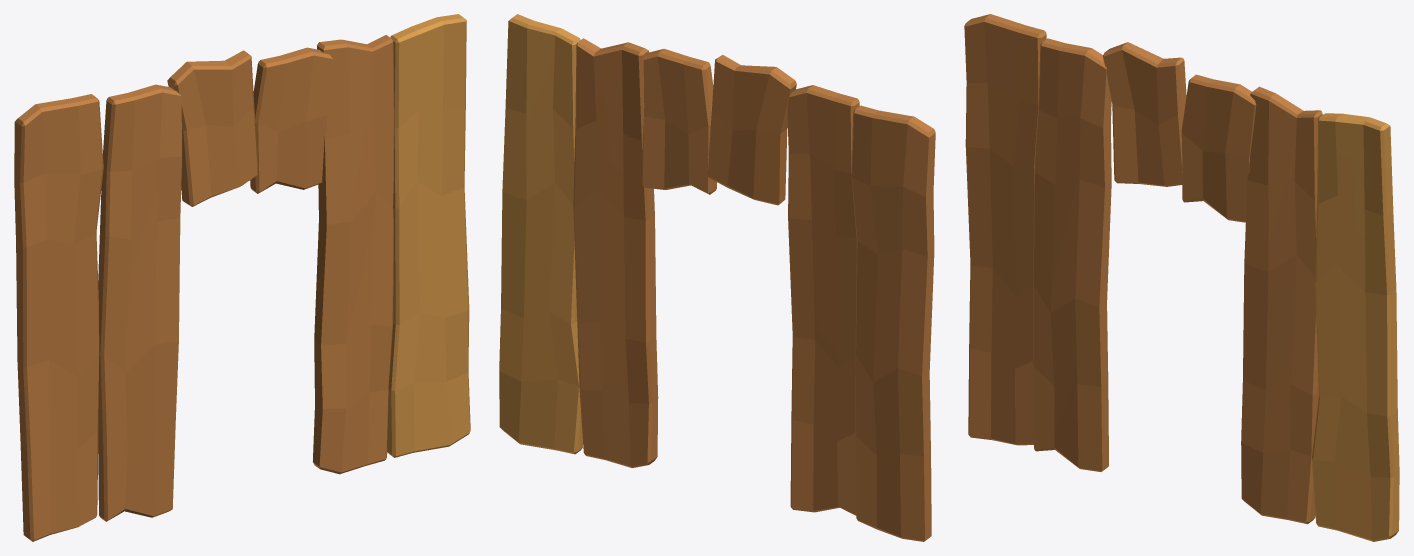
File: Beach_House_Entrance_01.fbx
The picture shows the model from 3 angles, left to right: view 1: azimuth 30°, elevation 25°; view 2: azimuth 150°, elevation 25°; view 3: azimuth 330°, elevation 25°; orthographic projection. The views are drawn at different scales.
Visible parts, largest first — view 1: Beach_House_Entrance_01; view 2: Beach_House_Entrance_01; view 3: Beach_House_Entrance_01.
Boxes of the visible parts, left/top/right/bottom form: Beach_House_Entrance_01: left=14, top=14, right=470, bottom=541; Beach_House_Entrance_01: left=499, top=14, right=935, bottom=541; Beach_House_Entrance_01: left=964, top=14, right=1399, bottom=541.
Size of the model in its own units: 5.12 by 4.89 by 0.3802.
